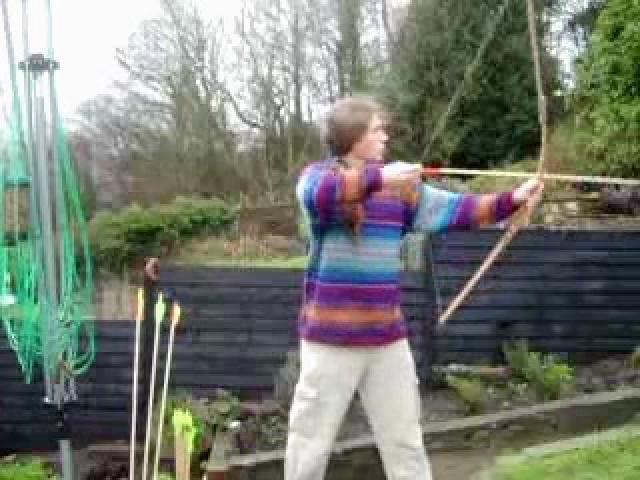I: (288, 68, 553, 480)
